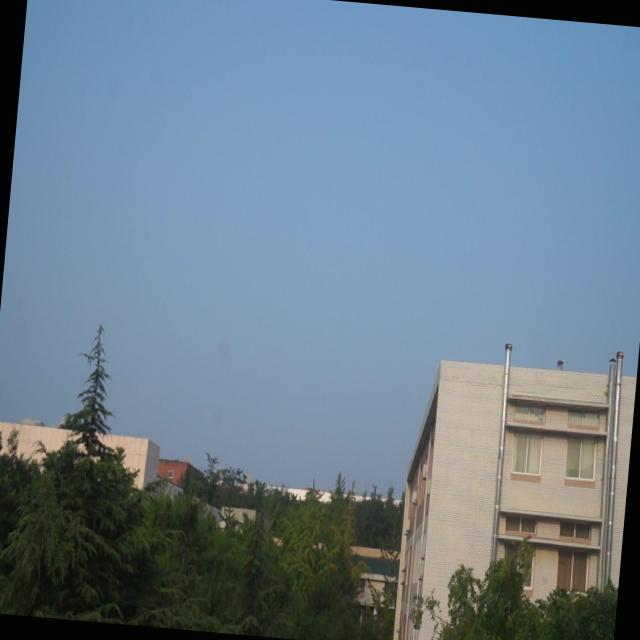drone: (555, 356, 564, 372)
